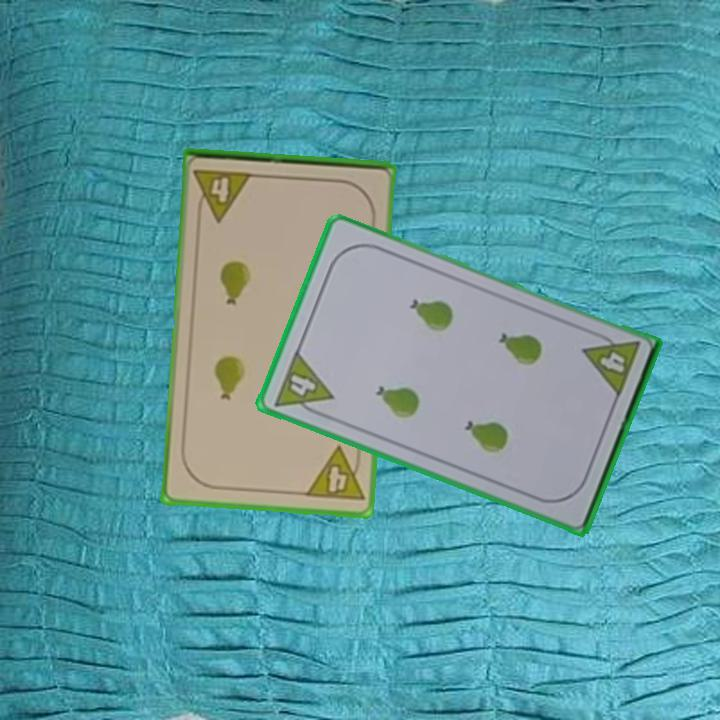4p: (271, 346, 336, 422), (579, 327, 643, 401), (302, 443, 367, 505), (190, 165, 256, 224)
